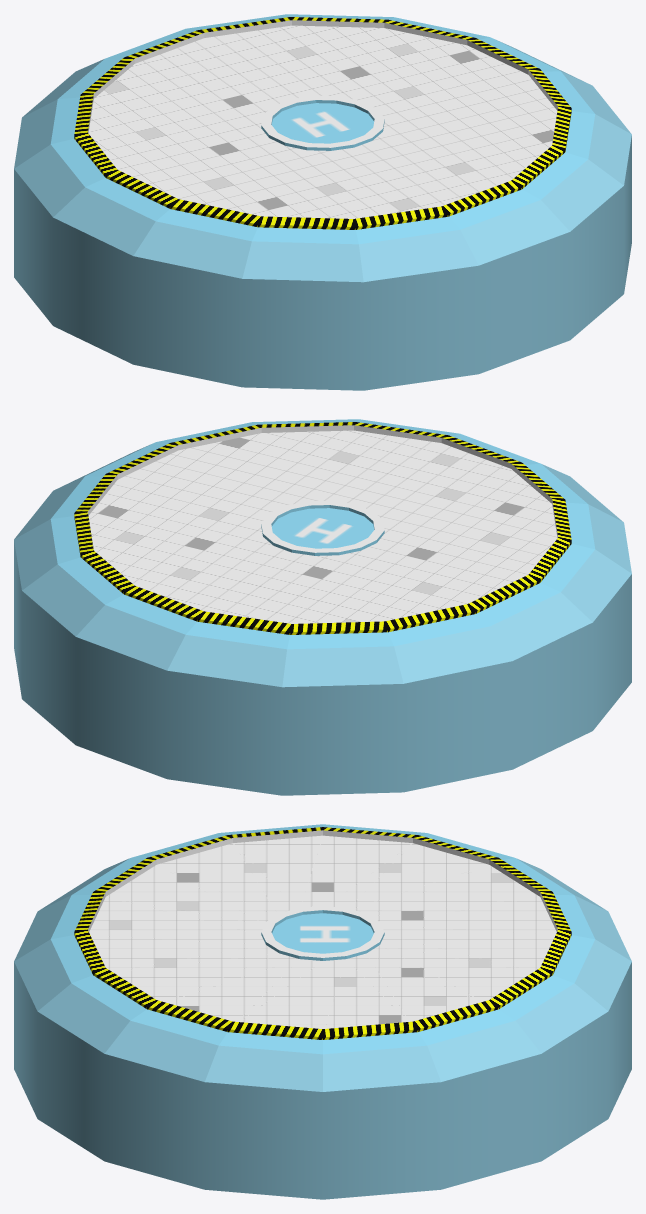
Rendered from building2.fbx.
3 renders of one model, top to bottom at view 1: azimuth 30°, elevation 25°; view 2: azimuth 150°, elevation 25°; view 3: azimuth 270°, elevation 25°, orthographic.
Parts seen in each view (by area): view 1: building, floor, airport, airport_wall; view 2: building, floor, airport, airport_wall; view 3: building, floor, airport, airport_wall.
Part boxes in pixels (x1,y1,x2,y2): building: (14, 14, 631, 390); floor: (88, 25, 557, 218); airport: (272, 103, 374, 143); airport_wall: (261, 95, 384, 150); building: (14, 419, 631, 795); floor: (88, 430, 557, 623); airport: (271, 508, 373, 548); airport_wall: (261, 500, 384, 555); building: (14, 824, 631, 1199); floor: (89, 835, 556, 1028); airport: (272, 913, 373, 953); airport_wall: (261, 906, 384, 960).
Size of the model in its own units: 55.78 by 13.89 by 55.78.
Materials: 1 (1 with a texture image).
